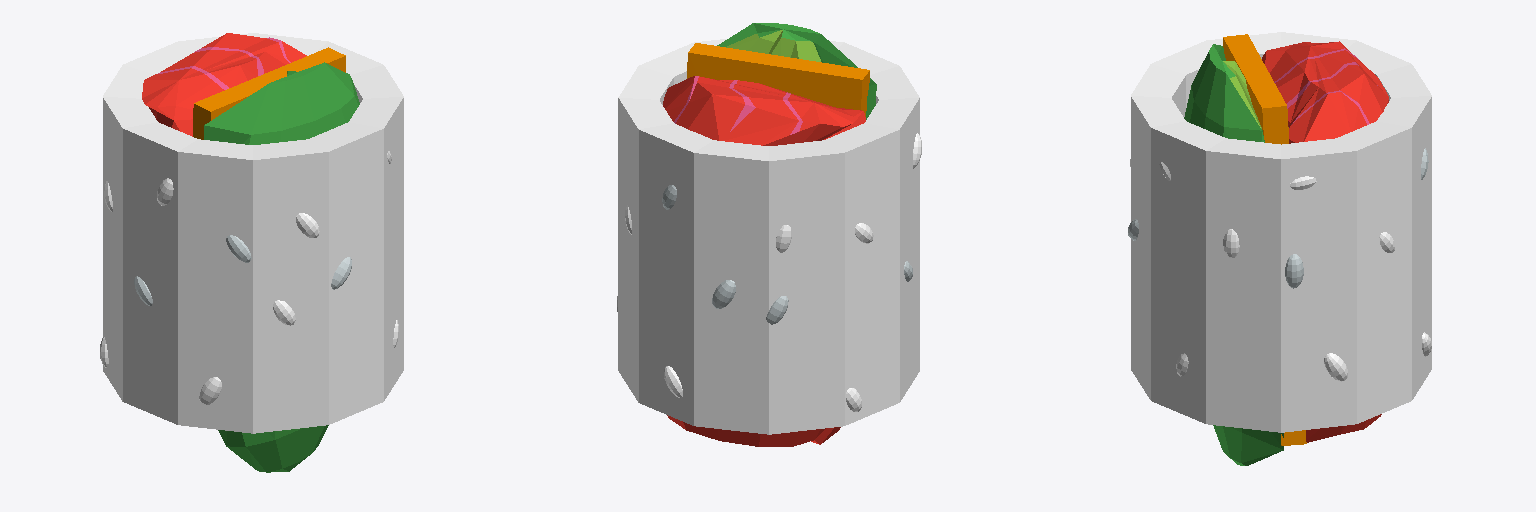
3 views of the same model, side by side, from view 1: azimuth 30°, elevation 25°; view 2: azimuth 150°, elevation 25°; view 3: azimuth 270°, elevation 25° (orthographic).
Visible parts, largest first — view 1: group[number redacted]; view 2: group[number redacted]; view 3: group[number redacted].
Boxes of the visible parts, <box> form: group[number redacted]: <box>100,33,403,472</box>; group[number redacted]: <box>617,23,921,446</box>; group[number redacted]: <box>1128,32,1431,465</box>.
Size of the model in its own units: 1.19 by 1.74 by 1.18.